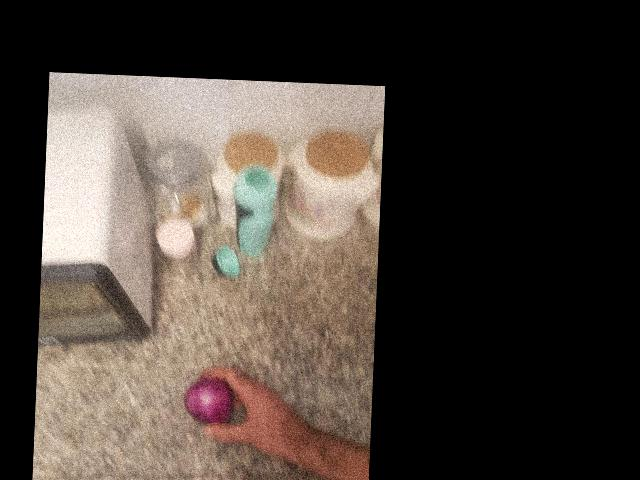onion: (10, 216, 83, 285)
